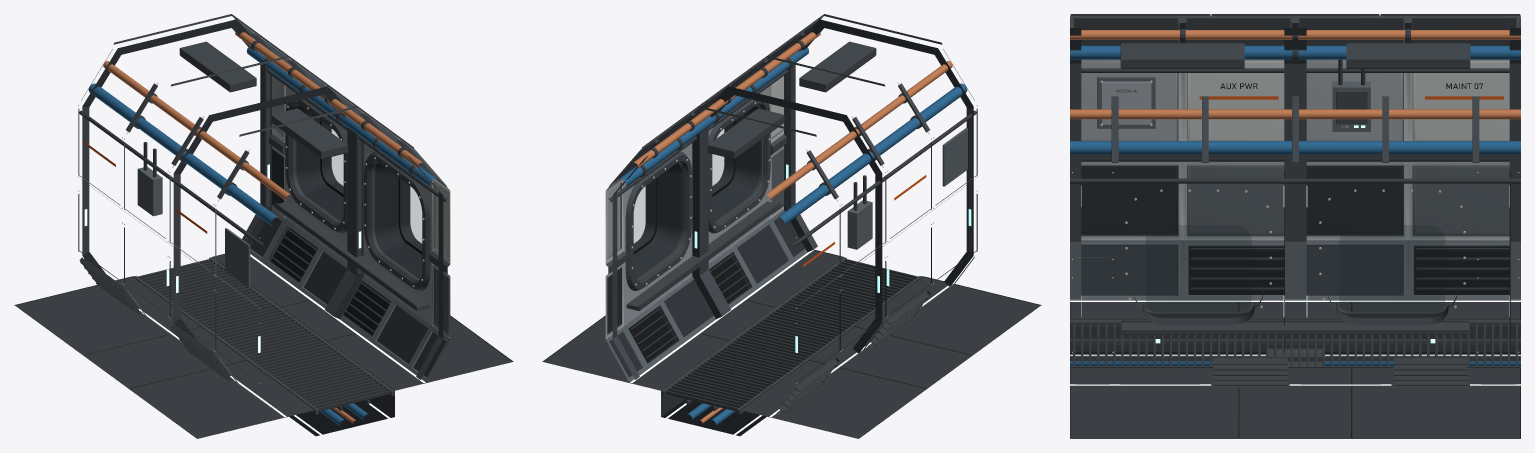
File: corridor_straight_window.glb
The picture shows the model from 3 angles, left to right: view 1: azimuth 30°, elevation 25°; view 2: azimuth 150°, elevation 25°; view 3: azimuth 270°, elevation 25°; orthographic projection. The views are drawn at different scales.
Visible parts, largest first — view 1: corridor_straight_window_body, corridor_straight_window_detail, corridor_straight_window_pipes, corridor_straight_window_decal; view 2: corridor_straight_window_body, corridor_straight_window_detail, corridor_straight_window_pipes, corridor_straight_window_decal; view 3: corridor_straight_window_body, corridor_straight_window_detail, corridor_straight_window_pipes, corridor_straight_window_decal.
Boxes of the visible parts, left/top/right/bottom form: corridor_straight_window_body: left=14, top=14, right=513, bottom=438; corridor_straight_window_detail: left=78, top=32, right=449, bottom=414; corridor_straight_window_pipes: left=79, top=32, right=447, bottom=426; corridor_straight_window_decal: left=83, top=122, right=425, bottom=434; corridor_straight_window_body: left=542, top=14, right=1041, bottom=438; corridor_straight_window_detail: left=606, top=32, right=977, bottom=414; corridor_straight_window_pipes: left=608, top=32, right=976, bottom=426; corridor_straight_window_decal: left=630, top=122, right=971, bottom=434; corridor_straight_window_body: left=1070, top=14, right=1520, bottom=438; corridor_straight_window_detail: left=1070, top=20, right=1520, bottom=385; corridor_straight_window_pipes: left=1070, top=30, right=1520, bottom=365; corridor_straight_window_decal: left=1070, top=83, right=1520, bottom=385.
Size of the model in its own units: 4 by 3.2 by 4.
